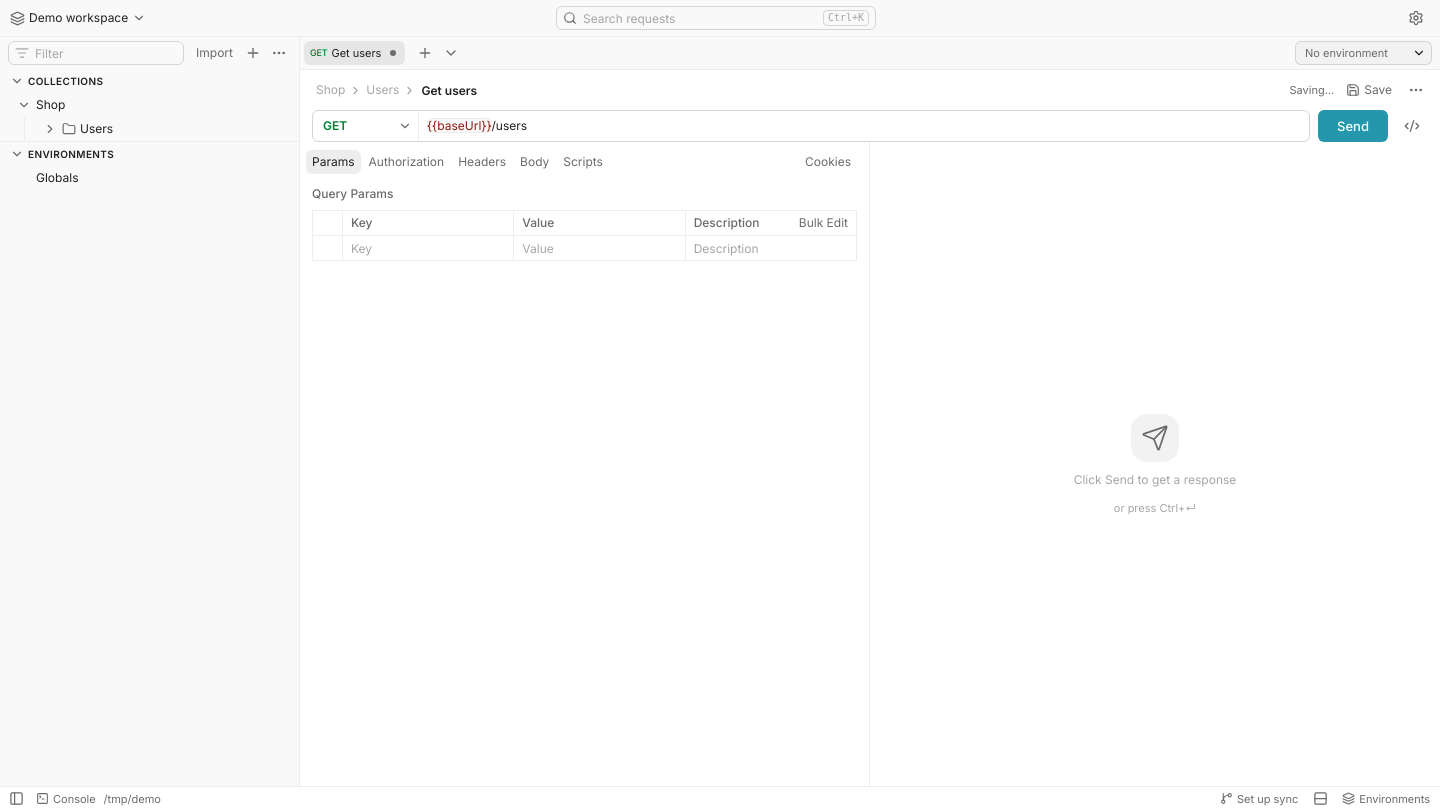
console panel › keeps the failure of a pre-request script that stopped the send
Click the button "Send" at (1353,126), box [1318,110,1388,142]
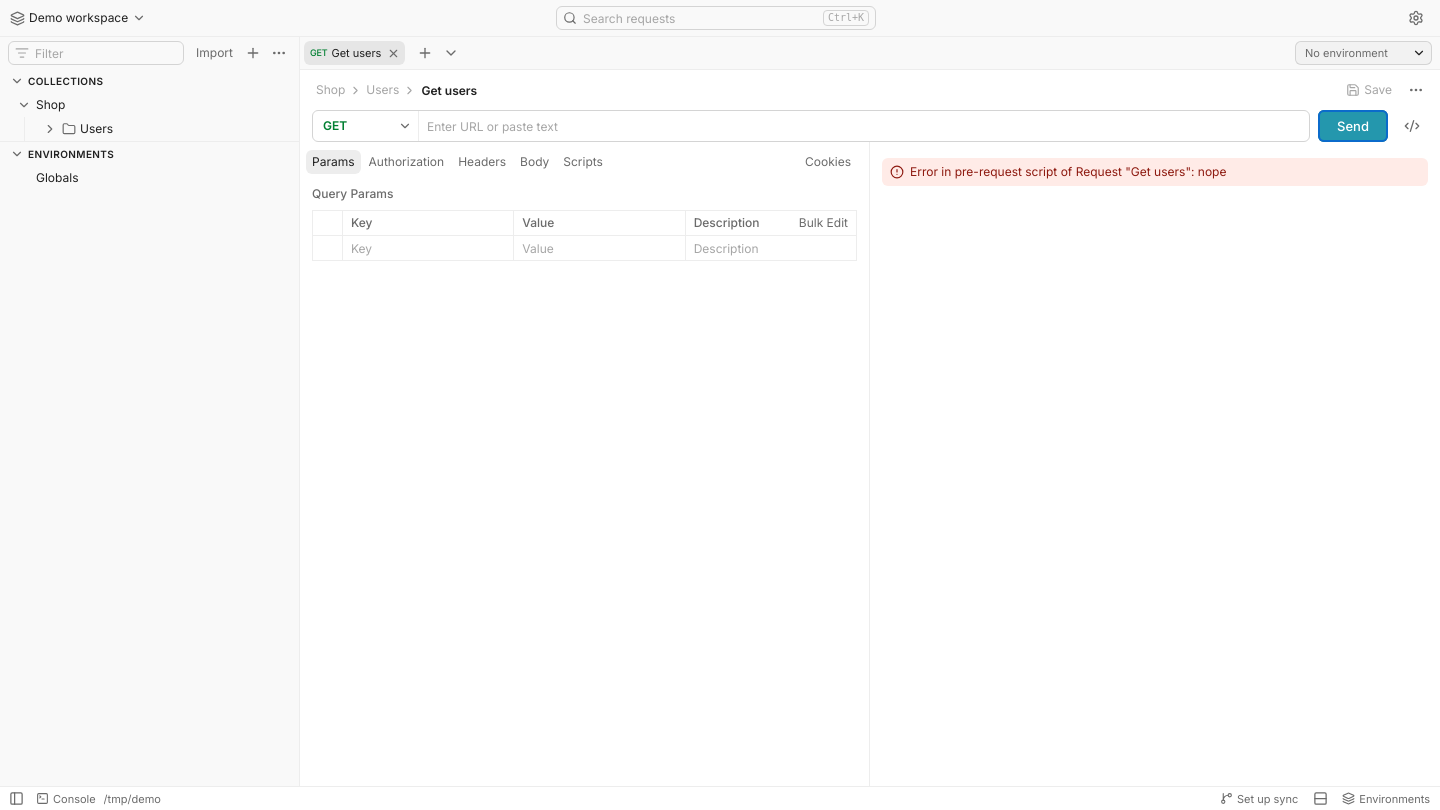
Click the button "Console" at (66,798), box [30,786,102,809]
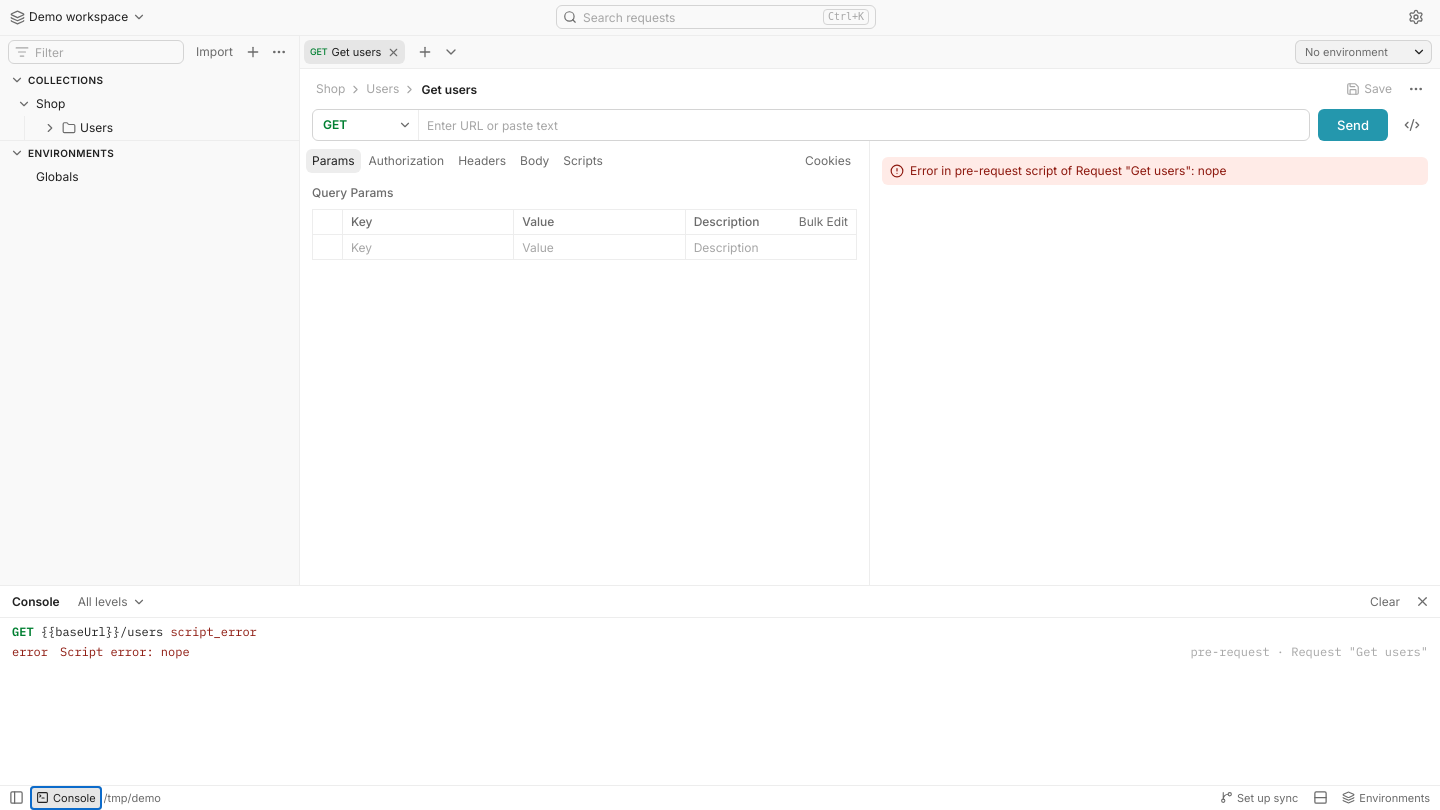
Expected: the list items read "GET {{baseUrl}}/users script_error", "errorScript error: nopepre-request · Request \"Get users\"", in this order, [12,624,257,639]; [0,642,1439,662]
